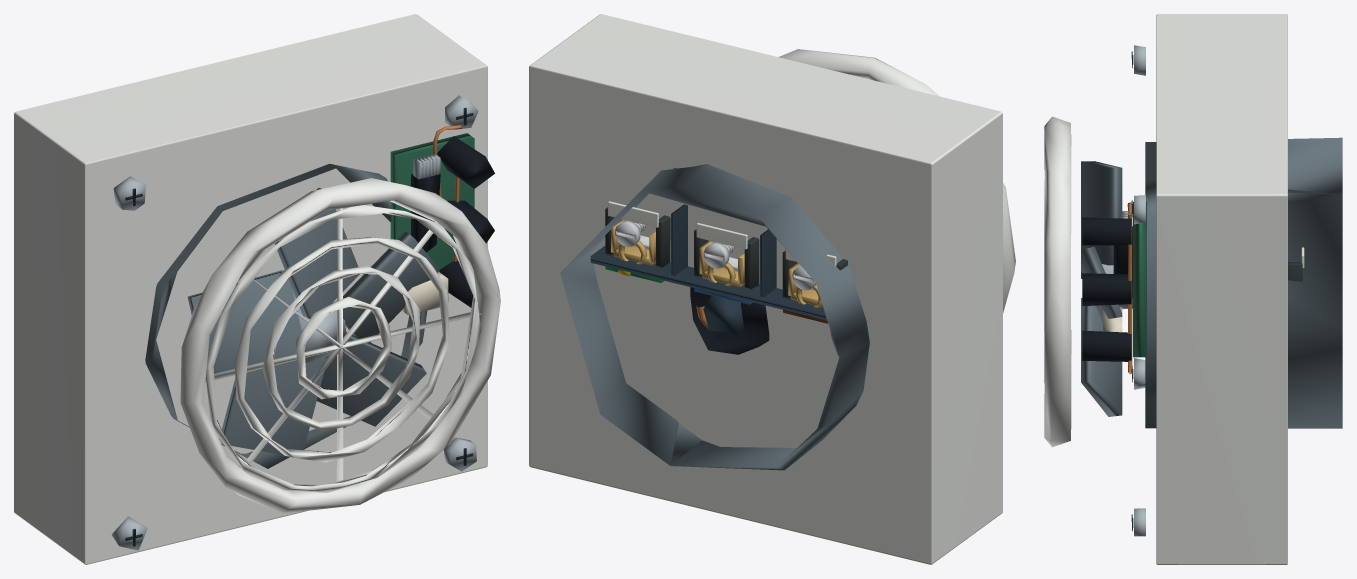
The model's file is fan_default.low.glb.
The picture shows the model from 3 angles, left to right: view 1: azimuth 30°, elevation 25°; view 2: azimuth 150°, elevation 25°; view 3: azimuth 270°, elevation 25°; orthographic projection. The views are drawn at different scales.
Visible parts, largest first — view 1: part:body, part:cover · Original 7dbee62c, motion:rotor · Original 0905ee26, part:electronics · Original 3ff2d46d, part:electronics, part:mounting · Original 2a8198d3, motion:rotor; view 2: part:body, part:terminals · Original a463fd81, part:cover · Original 7dbee62c, part:winding · Original 3ff2d46d, part:winding, detail:terminal-clamp:N · Detail moulded engineering polymer, detail:terminal-clamp:N · Detail machined brass, detail:terminal-clamp:PE · Detail moulded engineering polyme, detail:terminal-clamp:PE · Detail machined brass, Moulded terminal legend pad.001, Moulded terminal legend pad.002, detail:terminal-clamp:PE · Detail zinc plated fixing (+2 smaller); view 3: part:body, part:cover · Original 7dbee62c, motion:rotor · Original 0905ee26, part:electronics · Original 3ff2d46d, part:electronics, part:mounting · Original 2a8198d3, part:electronics · Original db0da9ae.
Part boxes in pixels (x1,y1,x2,y2): part:body: (14,14,487,564); part:cover · Original 7dbee62c: (180,178,500,513); motion:rotor · Original 0905ee26: (187,187,439,455); part:electronics · Original 3ff2d46d: (411,136,494,307); part:electronics: (390,133,474,314); part:mounting · Original 2a8198d3: (111,95,478,550); motion:rotor: (293,291,346,362); part:body: (529,14,1002,564); part:terminals · Original a463fd81: (590,204,827,320); part:cover · Original 7dbee62c: (778,49,1015,312); part:winding · Original 3ff2d46d: (690,284,769,354); part:winding: (696,296,744,334); detail:terminal-clamp:N · Detail moulded engineering polymer: (694,229,759,289); detail:terminal-clamp:N · Detail machined brass: (699,241,744,287); detail:terminal-clamp:PE · Detail moulded engineering polyme: (605,207,670,267); detail:terminal-clamp:PE · Detail machined brass: (611,220,655,265); Moulded terminal legend pad.001: (696,223,747,249); Moulded terminal legend pad.002: (608,201,658,227); detail:terminal-clamp:PE · Detail zinc plated fixing: (615,220,649,247); part:body: (1145,14,1342,564); part:cover · Original 7dbee62c: (1044,116,1071,447); motion:rotor · Original 0905ee26: (1081,161,1122,416); part:electronics · Original 3ff2d46d: (1082,217,1132,361); part:electronics: (1103,201,1146,357); part:mounting · Original 2a8198d3: (1134,45,1145,536); part:electronics · Original db0da9ae: (1127,202,1132,374).
Size of the model in its own units: 0.9231 by 0.8786 by 0.6408.
